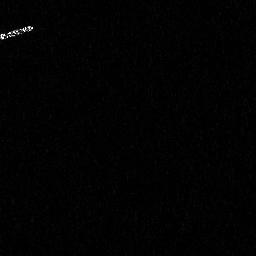ship: (1, 22, 38, 44)
